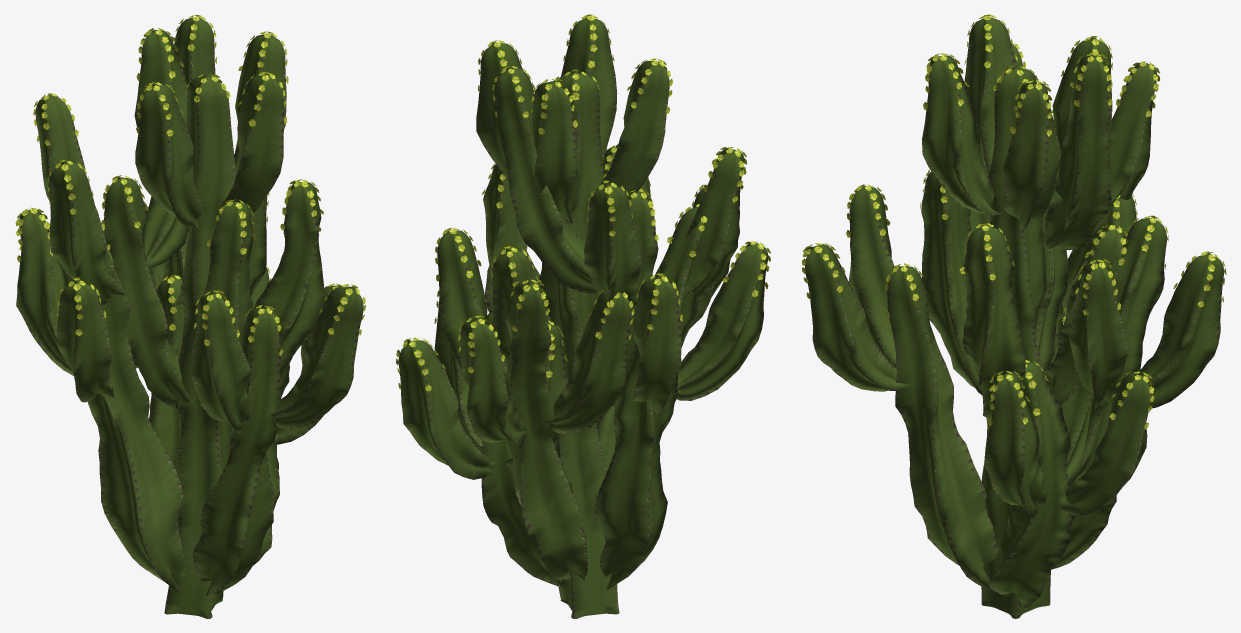
The model's file is runtime-jasminocereus-1.glb.
3 views of the same model, side by side, from view 1: azimuth 30°, elevation 25°; view 2: azimuth 150°, elevation 25°; view 3: azimuth 270°, elevation 25° (orthographic). The views are drawn at different scales.
Visible parts, largest first — view 1: Euphorbia_candelabrum_HD; view 2: Euphorbia_candelabrum_HD; view 3: Euphorbia_candelabrum_HD.
Boxes of the visible parts, x1,y1,x2,y2 form: Euphorbia_candelabrum_HD: (15,14,365,618); Euphorbia_candelabrum_HD: (396,14,770,618); Euphorbia_candelabrum_HD: (801,14,1226,618).
Bounding box in the file's own units: 0.5311 × 0.9152 × 0.6192.
5 materials, 5 textured.
